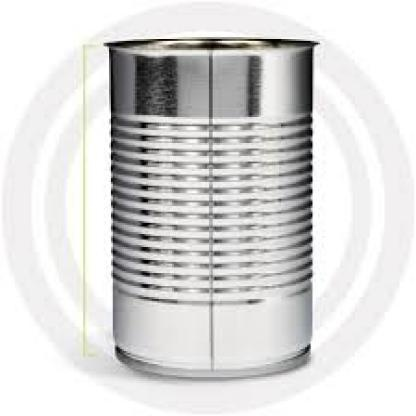trash: (109, 39, 314, 375)
